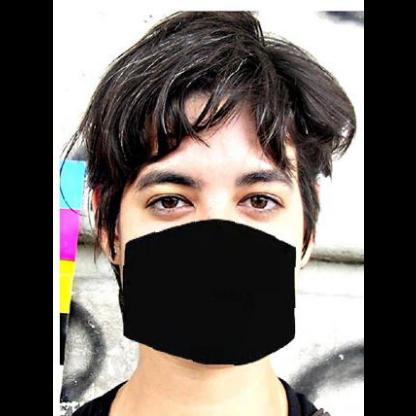Fabric/Cloth Mask: (122, 130, 302, 348)
